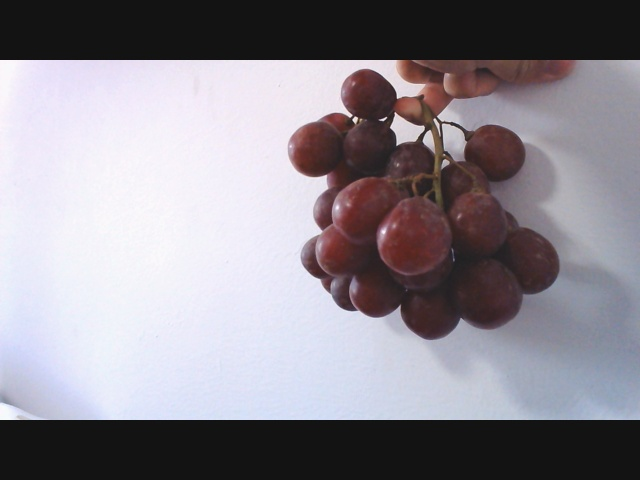grape: (265, 74, 569, 342)
